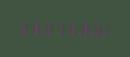eight: (29, 18, 40, 36), (77, 20, 88, 37)
five: (65, 20, 76, 37)
one: (101, 21, 112, 38)
seven: (53, 19, 64, 36)
two: (17, 18, 28, 35)
zero: (89, 20, 100, 38), (41, 19, 52, 36)
